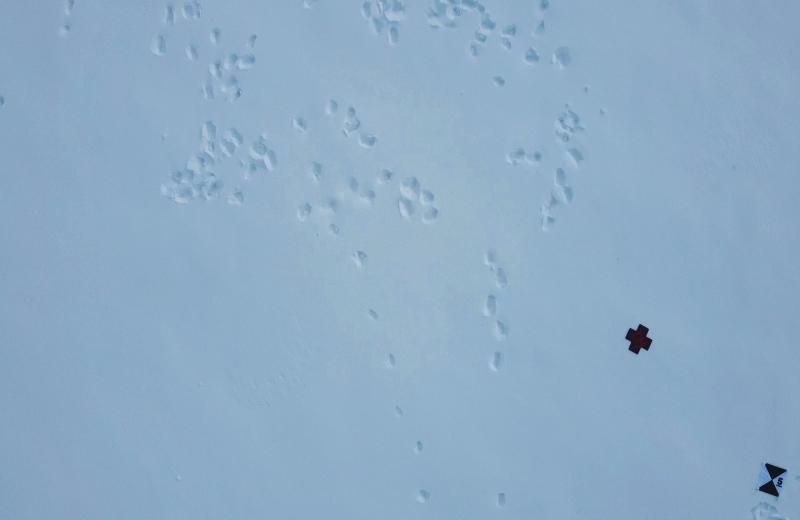Cross: (623, 321, 653, 358)
